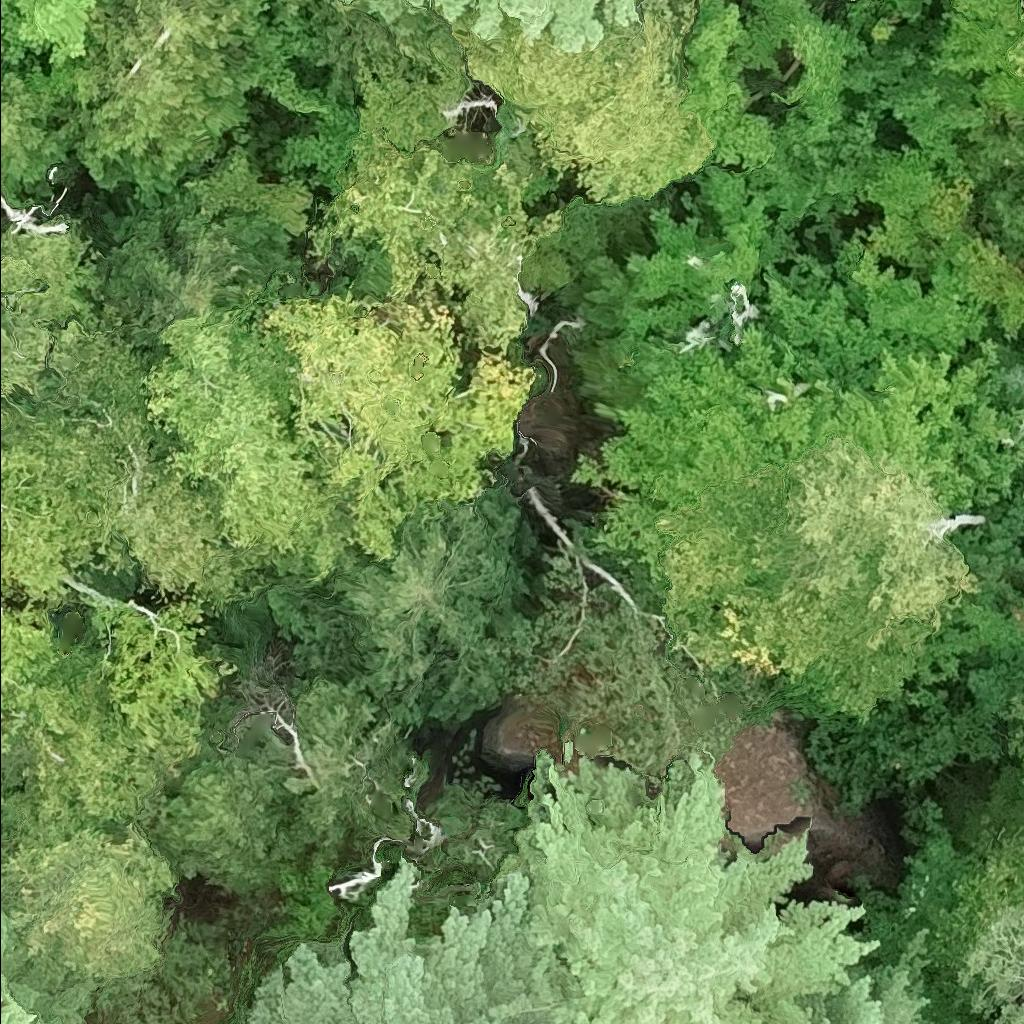crown: (502, 760, 877, 1023), (0, 323, 279, 611), (307, 66, 566, 347), (659, 463, 937, 718), (282, 298, 537, 559), (140, 301, 353, 582), (508, 553, 765, 779), (447, 0, 713, 203), (322, 483, 525, 727), (35, 0, 268, 205), (248, 868, 552, 1023), (786, 436, 981, 648), (571, 345, 787, 515), (251, 679, 412, 869), (26, 629, 168, 824), (8, 824, 177, 980), (85, 591, 229, 768), (135, 755, 293, 897), (626, 166, 772, 317), (0, 222, 99, 437), (728, 0, 864, 143), (680, 0, 774, 173), (863, 144, 976, 272), (327, 797, 441, 904), (797, 937, 931, 1023), (0, 611, 73, 759), (0, 486, 80, 621), (0, 67, 78, 205), (226, 657, 310, 775), (264, 586, 363, 684), (740, 112, 818, 228), (951, 238, 1023, 341), (474, 0, 605, 54), (965, 906, 1023, 1023), (932, 603, 1023, 676), (0, 0, 96, 68), (800, 165, 871, 221), (837, 98, 883, 167), (989, 346, 1023, 409), (0, 977, 34, 1023), (366, 0, 423, 23), (612, 0, 640, 24), (1007, 38, 1023, 79), (437, 0, 472, 16), (1010, 725, 1023, 753), (1006, 697, 1023, 717), (1019, 4, 1023, 22)
